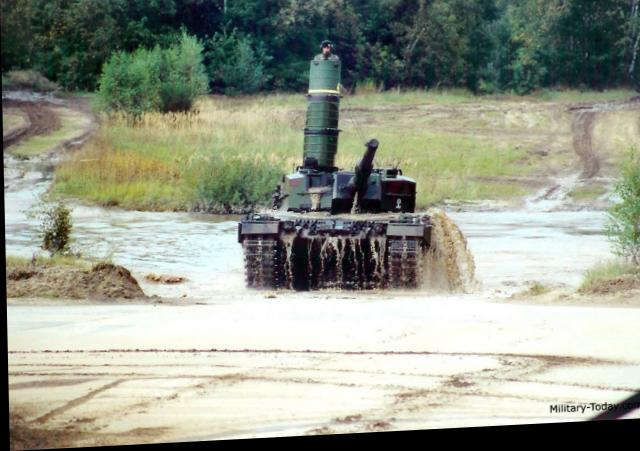tank: (226, 23, 430, 298)
